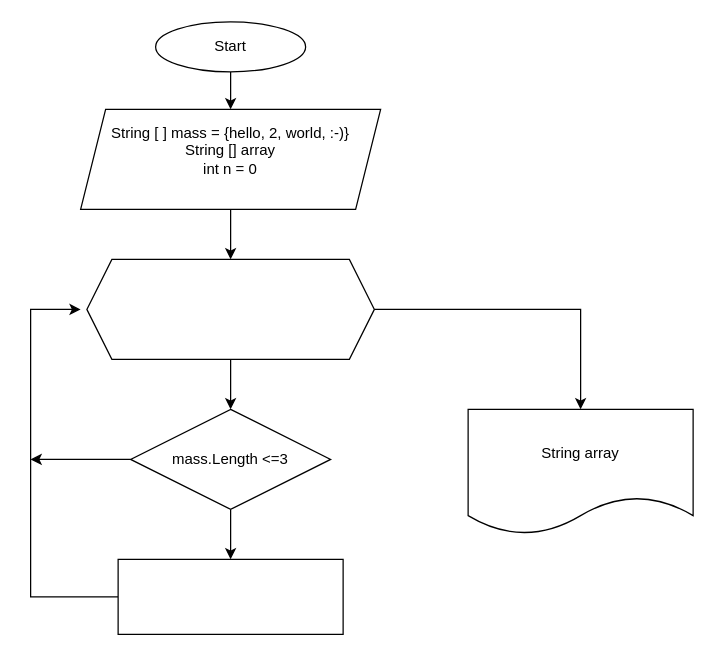
Some shapes in this 715 by 656 pixel diagram are drawn without their labels. Each missing label, with the centre of its shape:
for (int i = 0; i <mass.Length; i ++): (230,308)
String [n] array = String[i]mass n++: (230,596)
